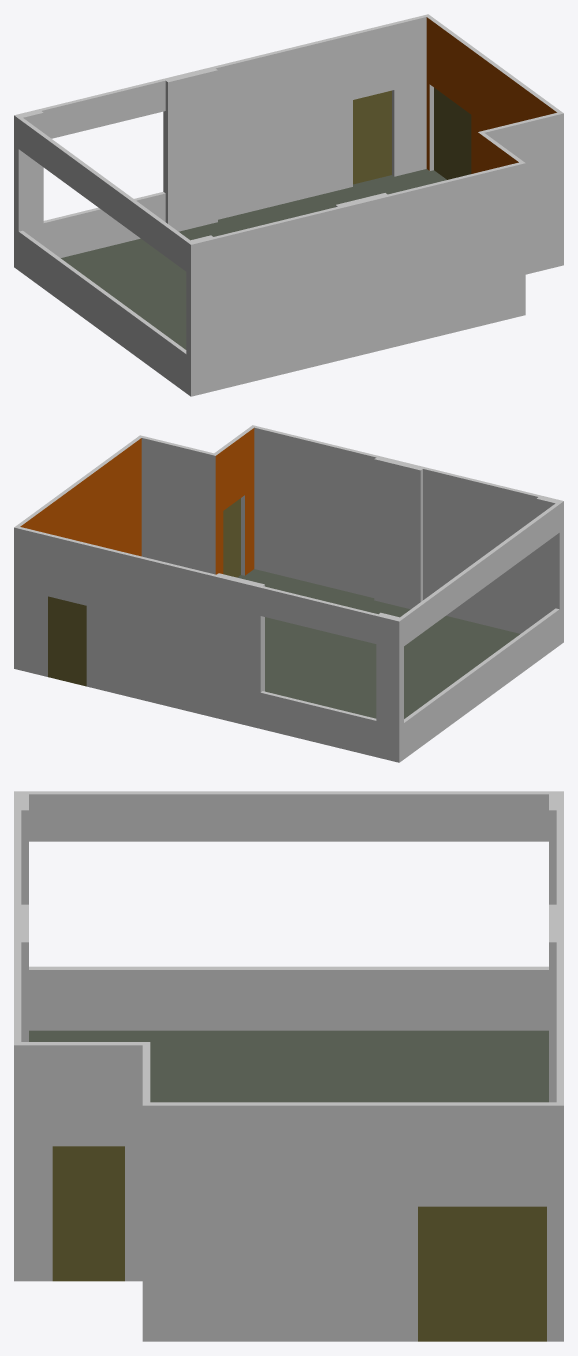
File: Sala_L15.dae
3 views of the same model, one above another, from view 1: azimuth 30°, elevation 25°; view 2: azimuth 150°, elevation 25°; view 3: azimuth 270°, elevation 25° (orthographic). The views are drawn at different scales.
Visible parts, largest first — view 1: Plane; view 2: Plane; view 3: Plane.
Boxes of the visible parts, box(x1,y1,x2,y2) form: Plane: box(14, 14, 563, 396); Plane: box(14, 425, 563, 762); Plane: box(14, 791, 563, 1341).
Bounding box in the file's own units: 9.99 × 7.39 × 3.5.
